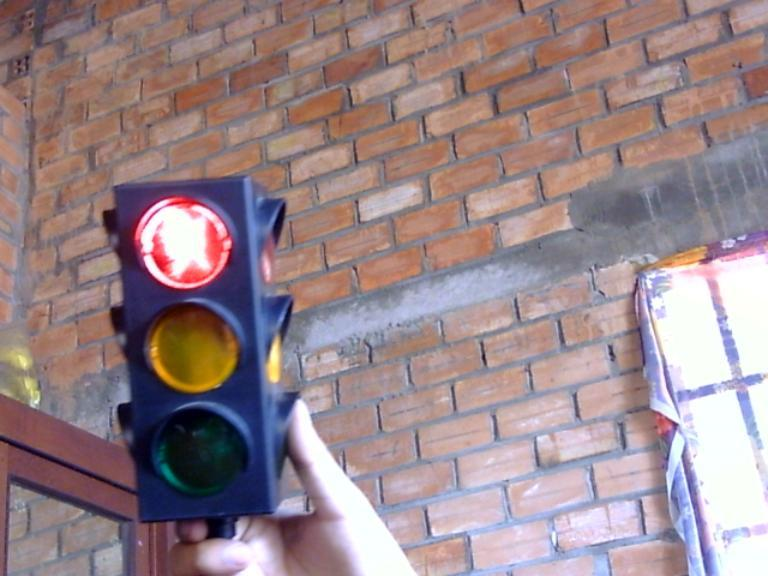red: (125, 190, 238, 292)
